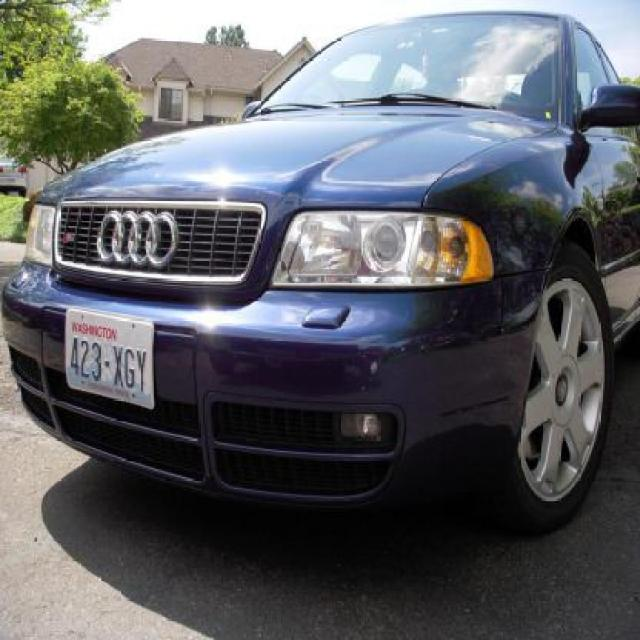License-Plates: (66, 305, 154, 411)
